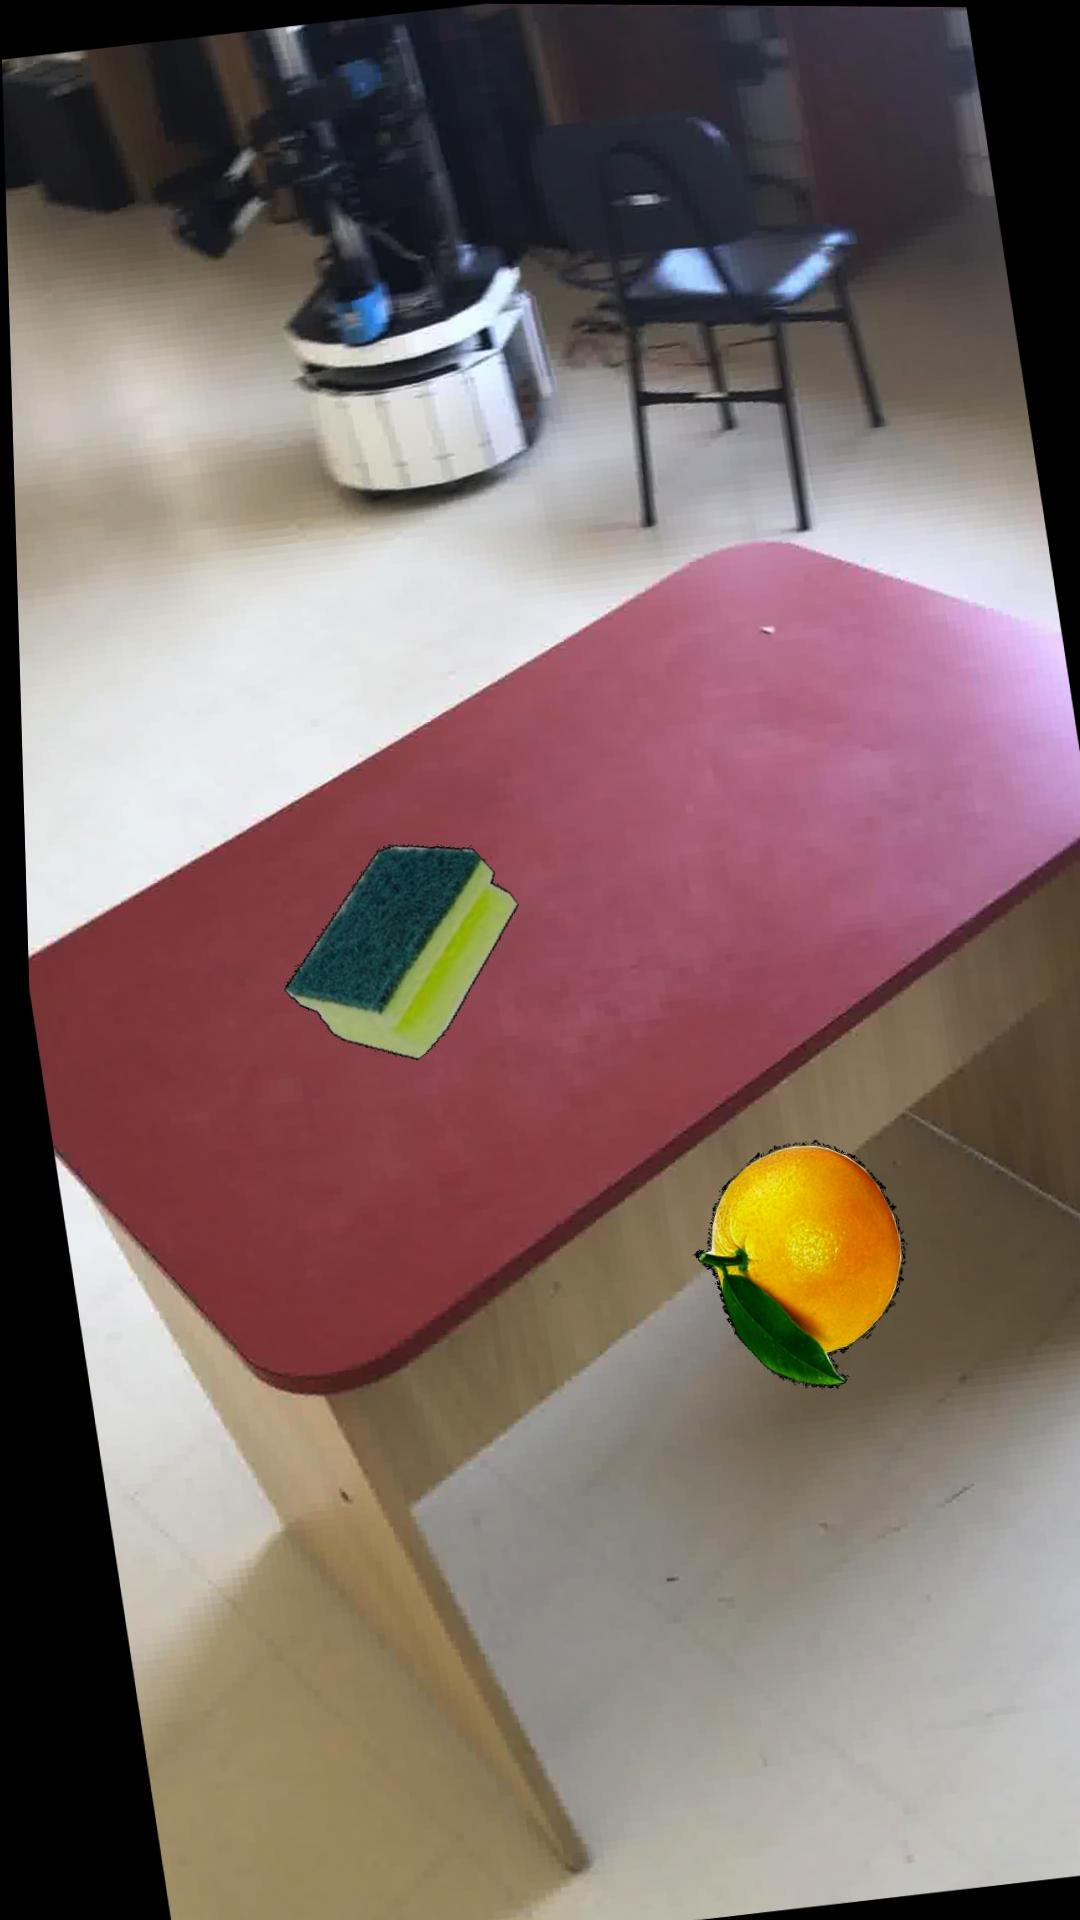orange: (687, 1139, 899, 1385)
sponge: (280, 841, 514, 1058)
